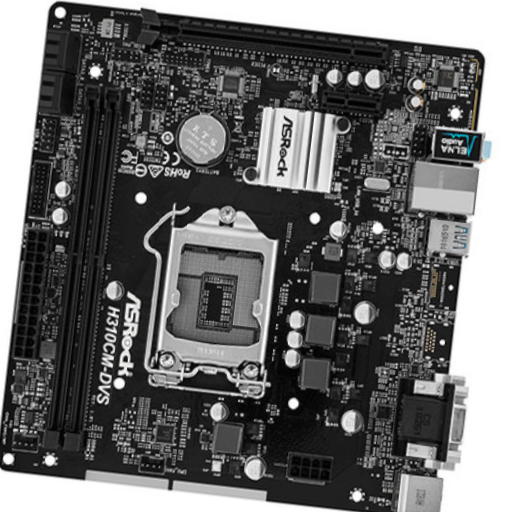CPU: (143, 206, 281, 398)
GPU: (137, 8, 390, 66)
MOTHERBOARD: (1, 2, 486, 512)
RAM: (41, 83, 127, 452)
